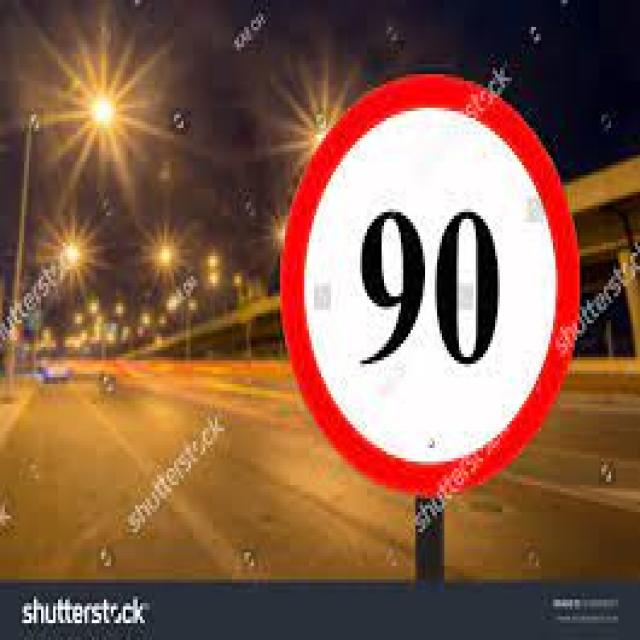SPEED_LIMIT_90: (276, 66, 586, 502)
